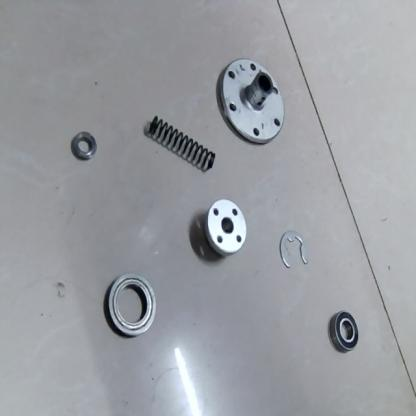FOD: (215, 59, 284, 148), (145, 113, 216, 173), (104, 271, 160, 339), (204, 196, 249, 260), (325, 311, 362, 359), (277, 228, 309, 269), (73, 133, 99, 163)
